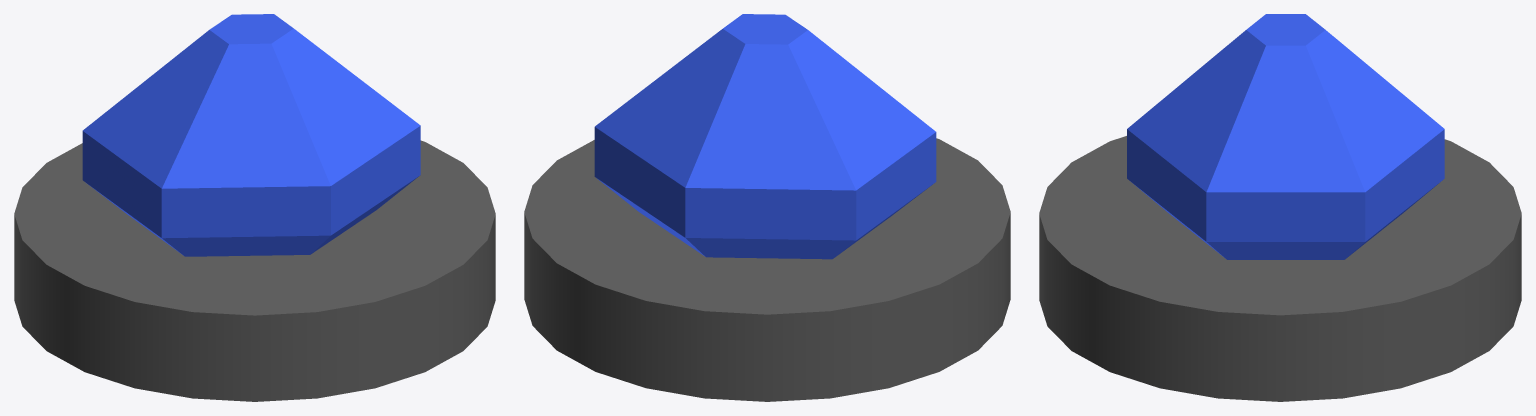
The model's file is gems_sapphire_3.obj.
3 renders of one model, left to right at view 1: azimuth 30°, elevation 25°; view 2: azimuth 150°, elevation 25°; view 3: azimuth 270°, elevation 25°, orthographic.
Visible parts, largest first — view 1: mergedBlocks; view 2: mergedBlocks; view 3: mergedBlocks.
Boxes of the visible parts, box(x1,y1,x2,y2) form: mergedBlocks: box(14, 14, 495, 401); mergedBlocks: box(524, 14, 1010, 401); mergedBlocks: box(1039, 14, 1521, 401).
Size of the model in its own units: 1 by 0.617 by 1.
